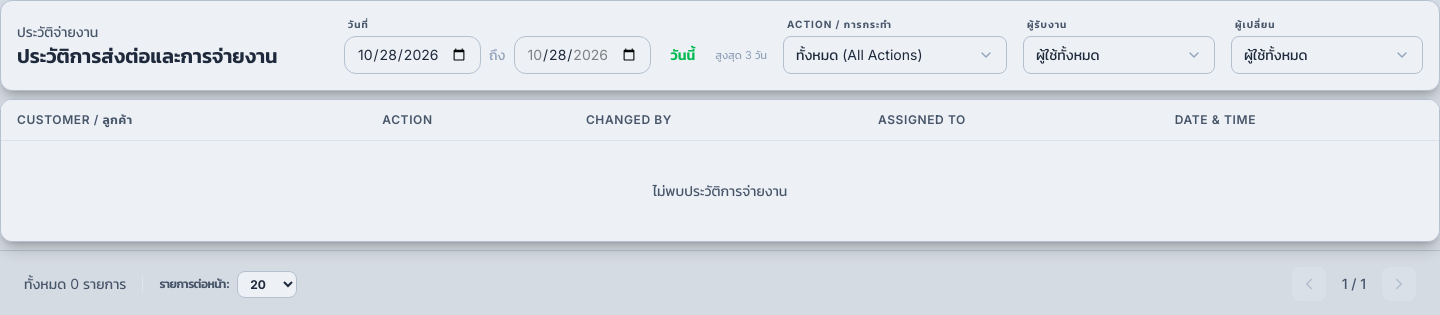
Scenario: AssignHistory — searchable filters keep identical behavior (no date filter) › the assignee combo lists every user + the All Users default (option set unchanged)
# open the assignee dropdown (its trigger shows the "All Users" default label)
Click the button "ผู้ใช้ทั้งหมด" below "ผู้รับงาน" at (1119, 55), box [1023,36,1215,74]
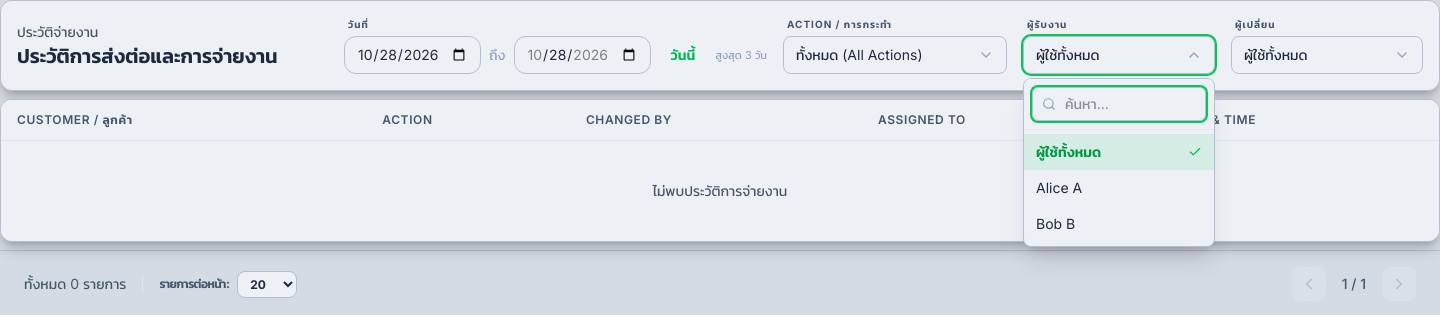
Result: the text "Alice A" is shown at [1036,179,1082,196]
Result: the text "Bob B" is shown at [1036,215,1075,232]
